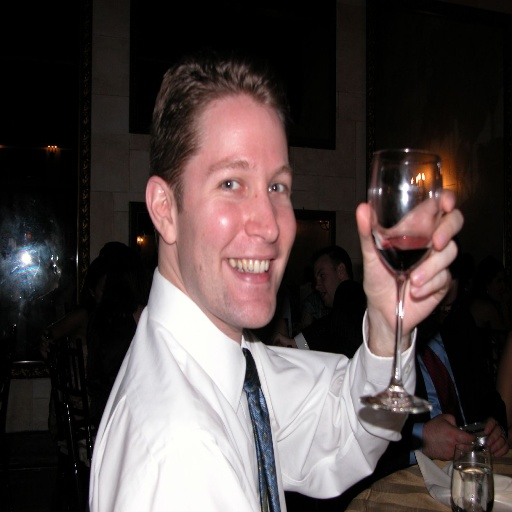hand: (355, 186, 466, 337), (421, 414, 475, 461), (482, 416, 511, 459), (273, 331, 296, 347)
